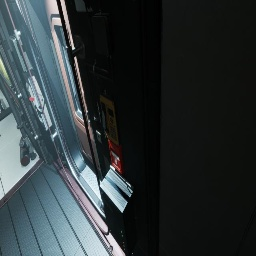EmergencyPhone ,: (94, 82, 121, 146)
FireAlarm ,: (108, 139, 124, 174)
NitrogenTank ,: (20, 136, 30, 166)
SafetySwitchPanel ,: (22, 70, 52, 131)
